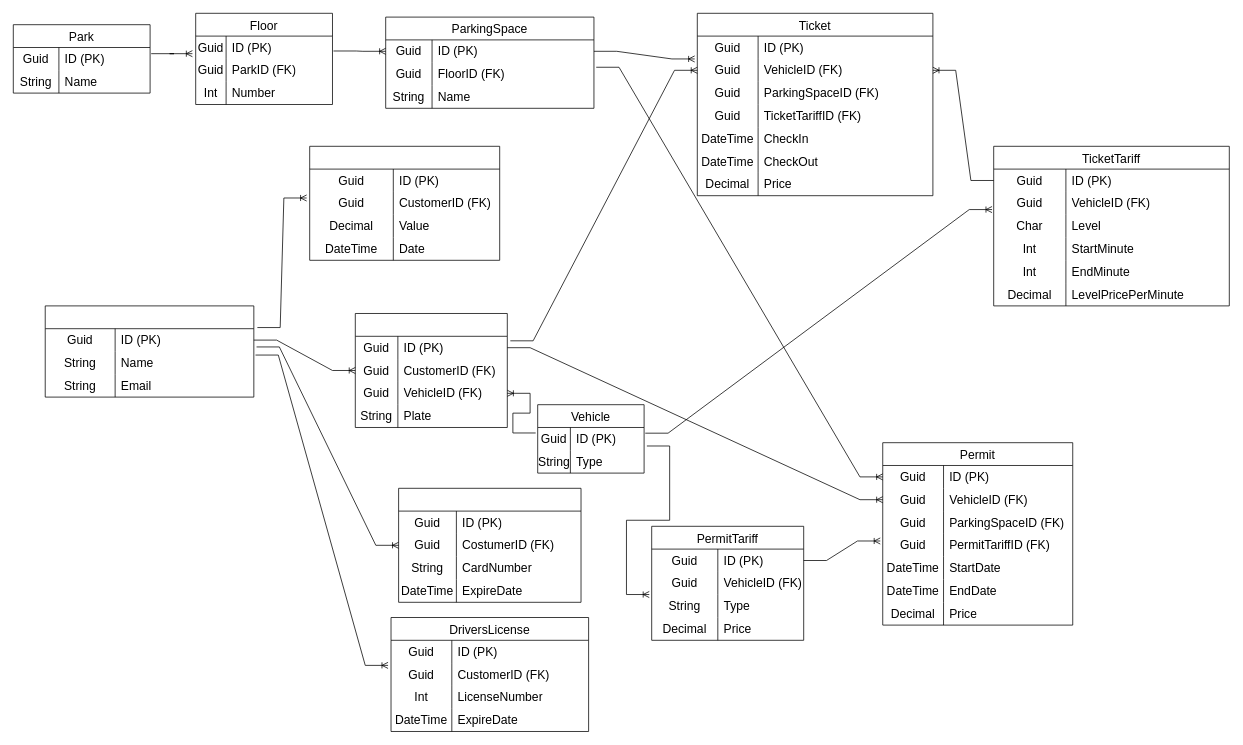
Image size: 1243x745. Some labels were removed from this diagram. The box of each missing label's shape, as (x1, y1, x2, y2) in pixels:
BankCard: (398, 488, 581, 602)
Customer: (44, 305, 254, 397)
CustomerVehicle: (355, 313, 507, 428)
Transaction: (309, 146, 500, 260)
